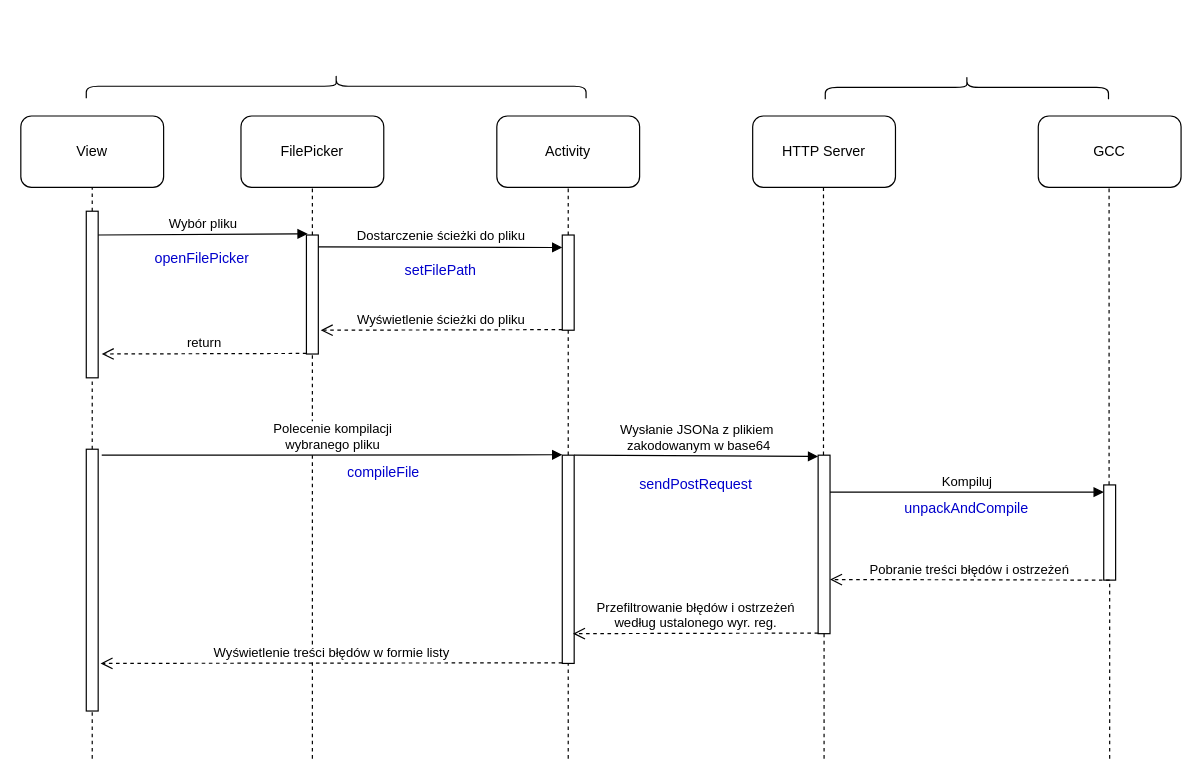
The diagram is 1202 pixels wide and 781 high, and some of its shapes have lost their labels. The box of each missing label's shape, as (x1, y1, x2, y2) in pixels:
Android App: (85, 73, 586, 98)
Remote Server: (824, 74, 1108, 99)
